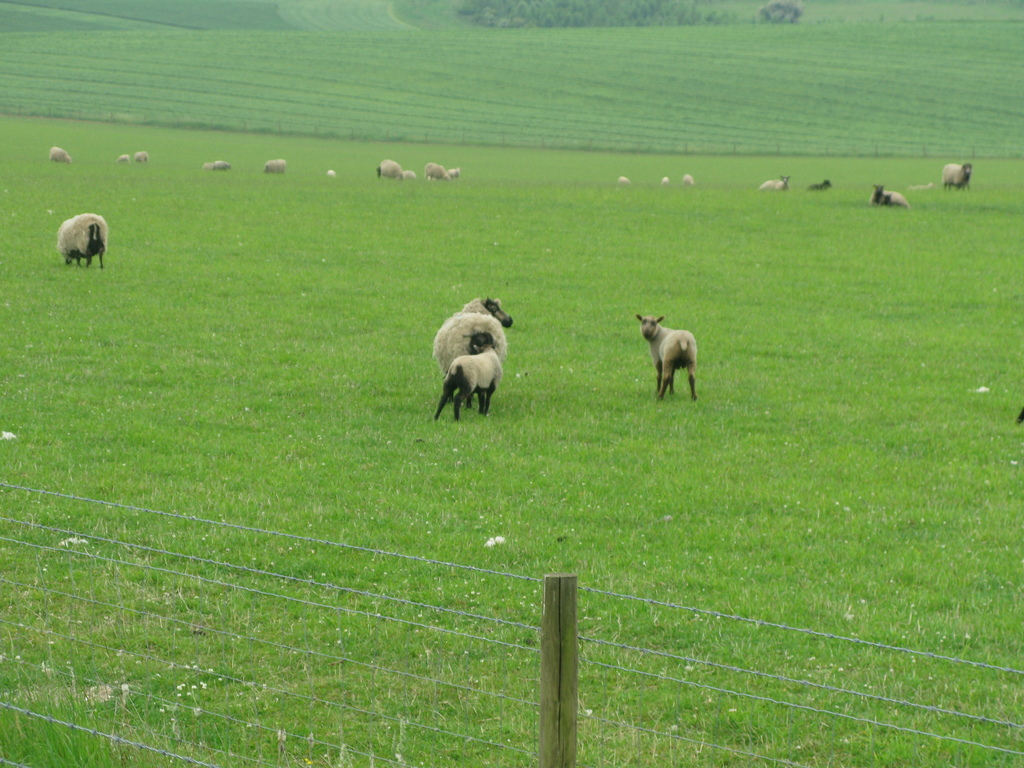sheep: (434, 333, 502, 421), (639, 315, 698, 398), (55, 212, 108, 267)
